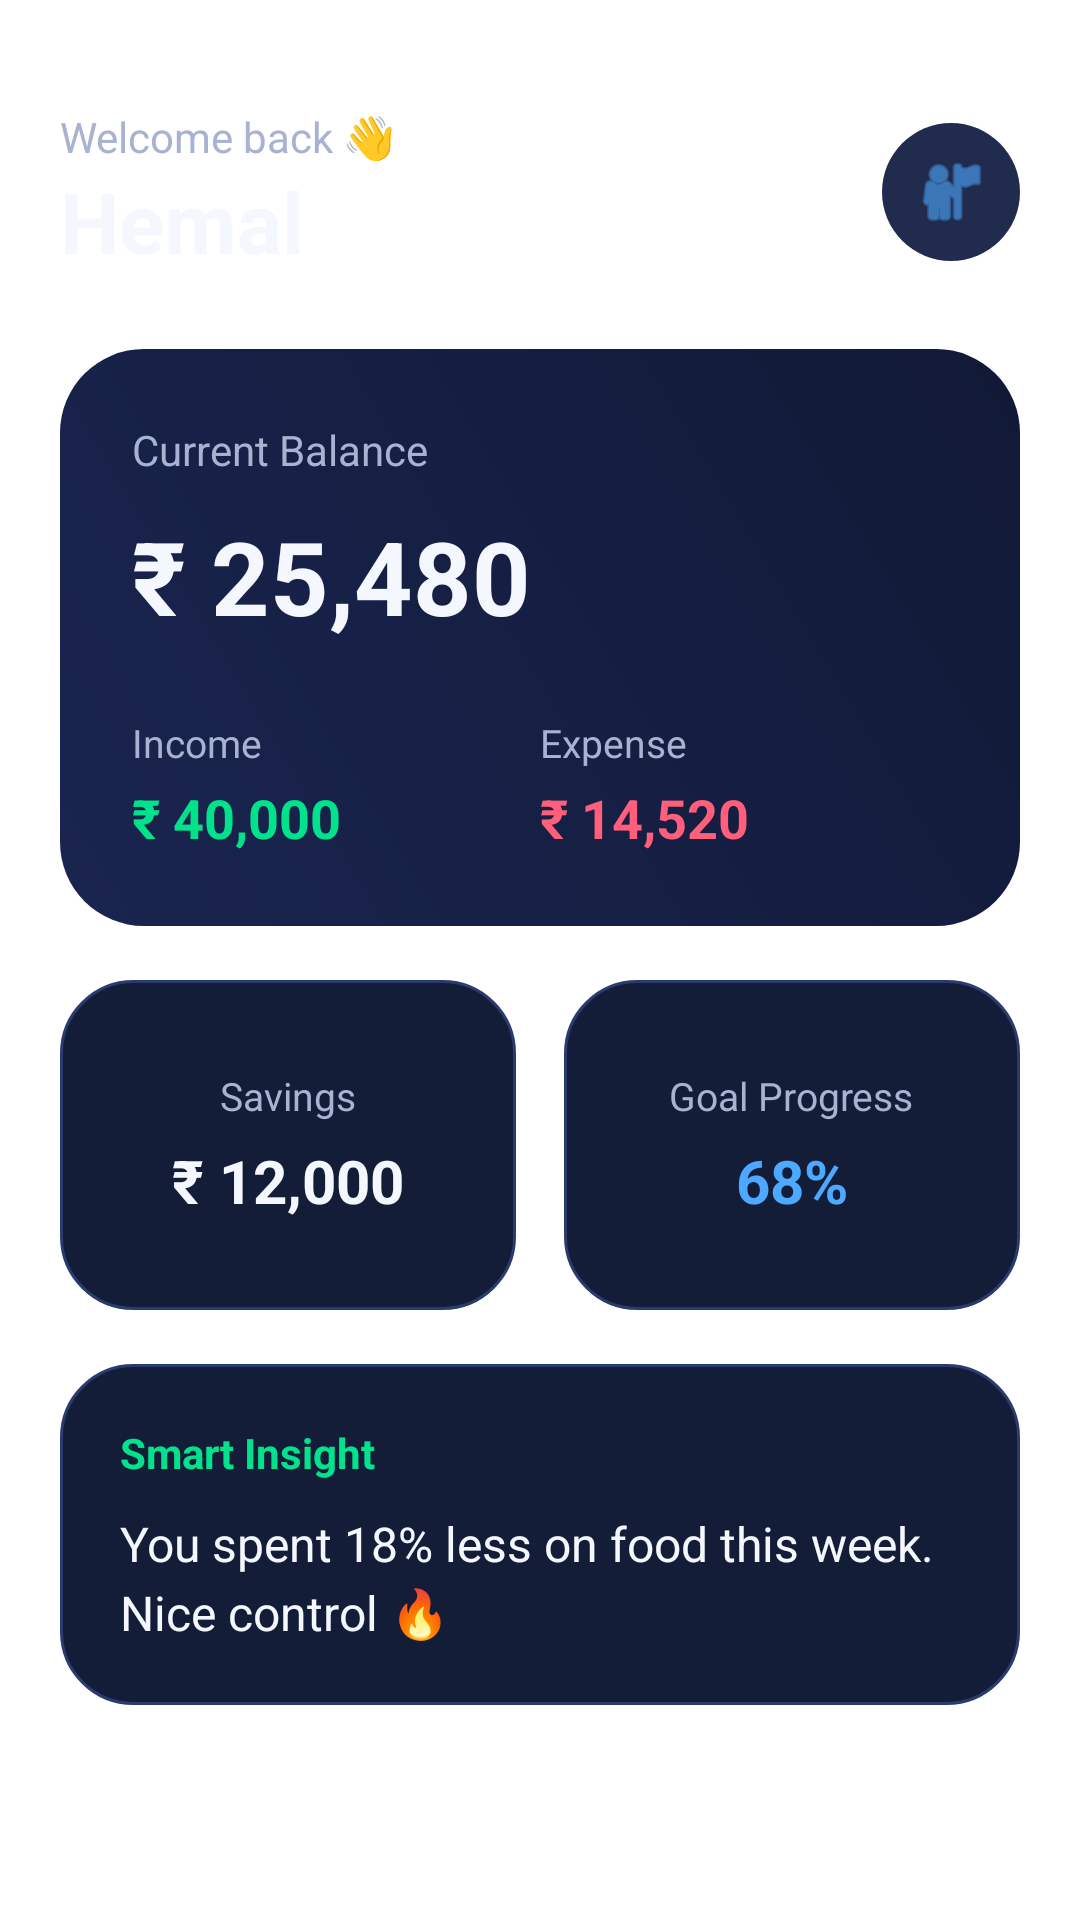

Named icons in this screenshot (1080x1920) and their centers, point (x, y):
myplaces: point (951, 192)
